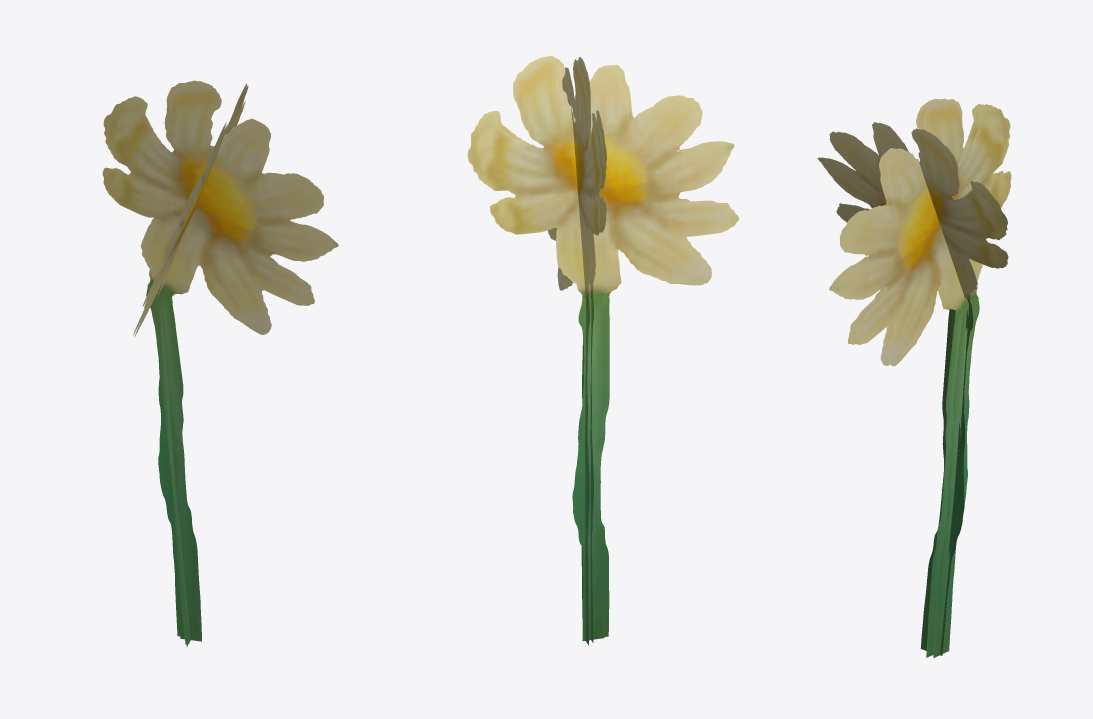
File: zc_flower_02.FBX
3 renders of one model, left to right at view 1: azimuth 30°, elevation 25°; view 2: azimuth 150°, elevation 25°; view 3: azimuth 270°, elevation 25°, orthographic. The views are drawn at different scales.
Parts seen in each view (by area): view 1: zc_flower_02; view 2: zc_flower_02; view 3: zc_flower_02.
Boxes of the visible parts, x1,y1,x2,y2 form: zc_flower_02: [102, 80, 338, 647]; zc_flower_02: [467, 56, 739, 645]; zc_flower_02: [818, 98, 1011, 657].
Size of the model in its own units: 0.2252 by 0.2387 by 0.5451.
